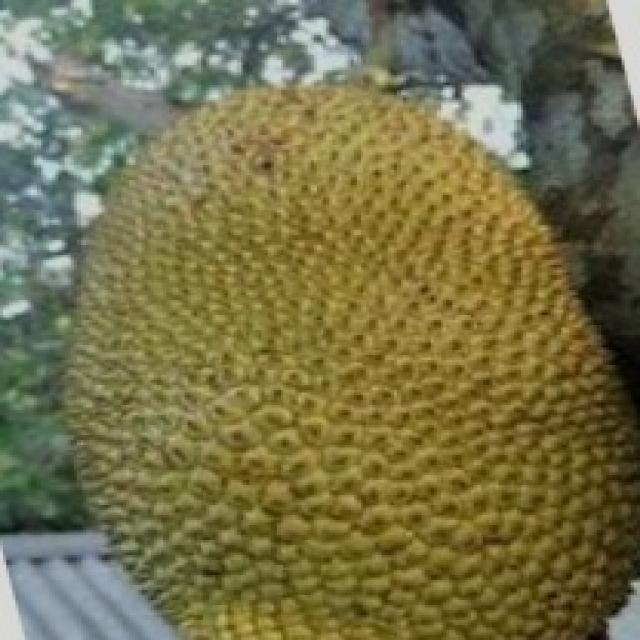Fruit: (255, 18, 640, 372), (292, 247, 636, 640), (9, 302, 363, 640)
